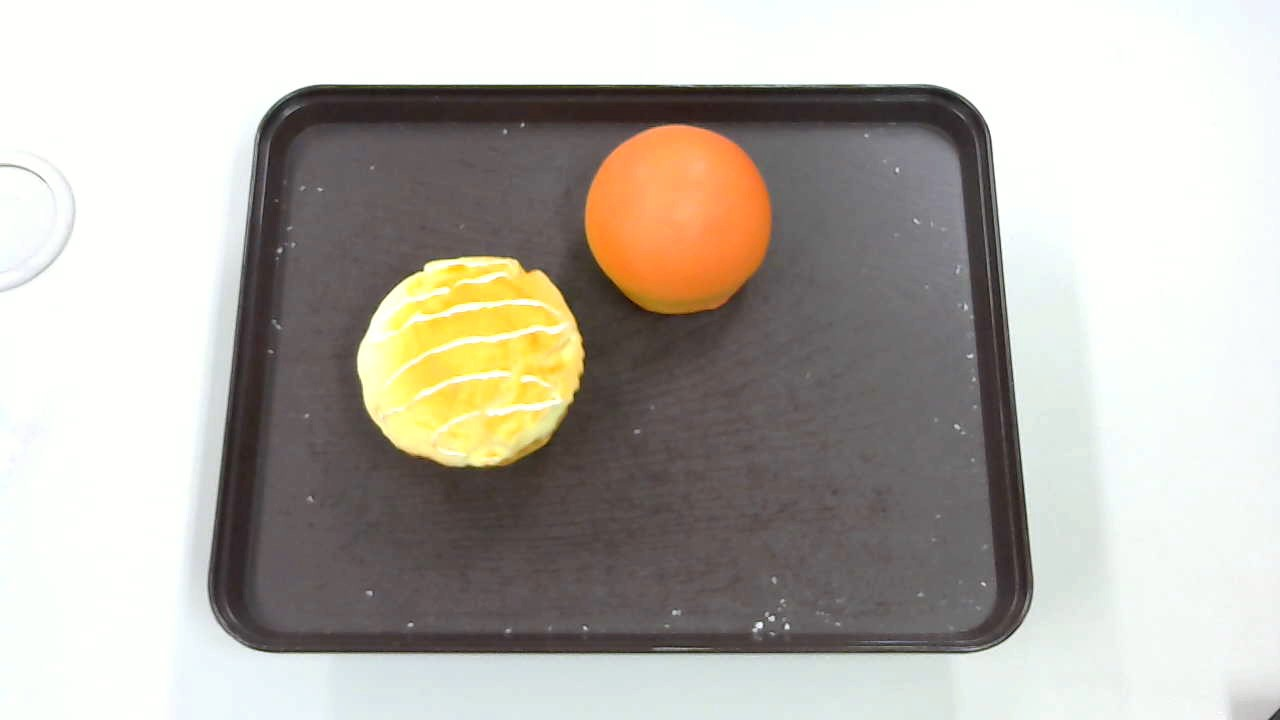bun: (586, 119, 773, 312)
cupcake: (355, 255, 584, 468)
